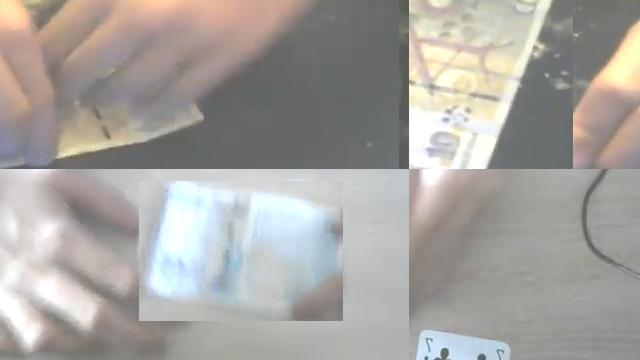10leva: (409, 0, 553, 169)
20leva: (139, 181, 343, 321)
